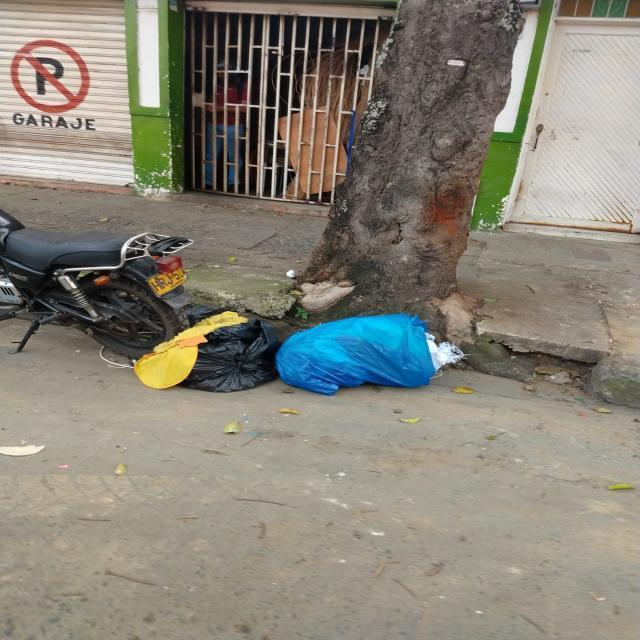Trashbag: (179, 309, 281, 395)
